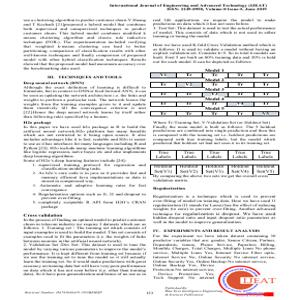diagram: (149, 69, 282, 119)
image: (216, 264, 281, 297)
table: (150, 148, 280, 160)
text: (20, 75, 146, 278), (153, 186, 277, 282), (22, 17, 146, 71), (152, 16, 280, 64), (149, 121, 278, 146), (106, 1, 270, 15)
